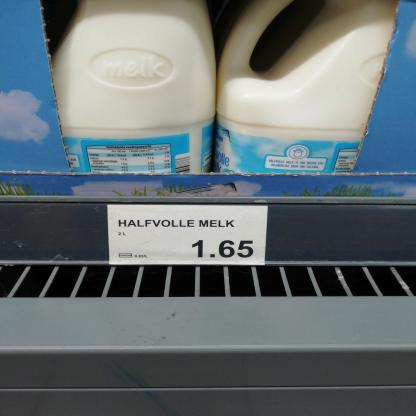prtg: (108, 205, 269, 267)
